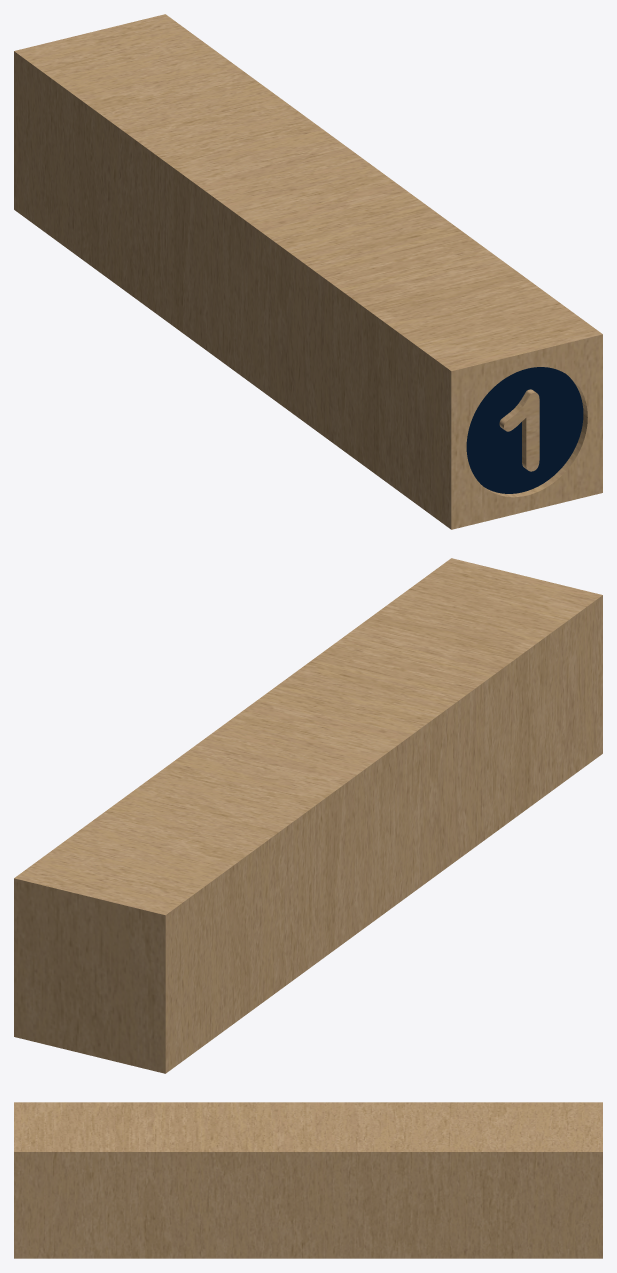
The model's file is Piece1.glb.
The picture shows the model from 3 angles, top to bottom: view 1: azimuth 30°, elevation 25°; view 2: azimuth 150°, elevation 25°; view 3: azimuth 270°, elevation 25°; orthographic projection. The views are drawn at different scales.
Parts seen in each view (by area): view 1: Piece1; view 2: Piece1; view 3: Piece1.
Boxes of the visible parts, <box> form: Piece1: <box>14,14,602,529</box>; Piece1: <box>14,558,602,1073</box>; Piece1: <box>14,1102,602,1258</box>.
Bounding box in the file's own units: 10 × 10 × 50.
Materials: 2 (1 with a texture image).
